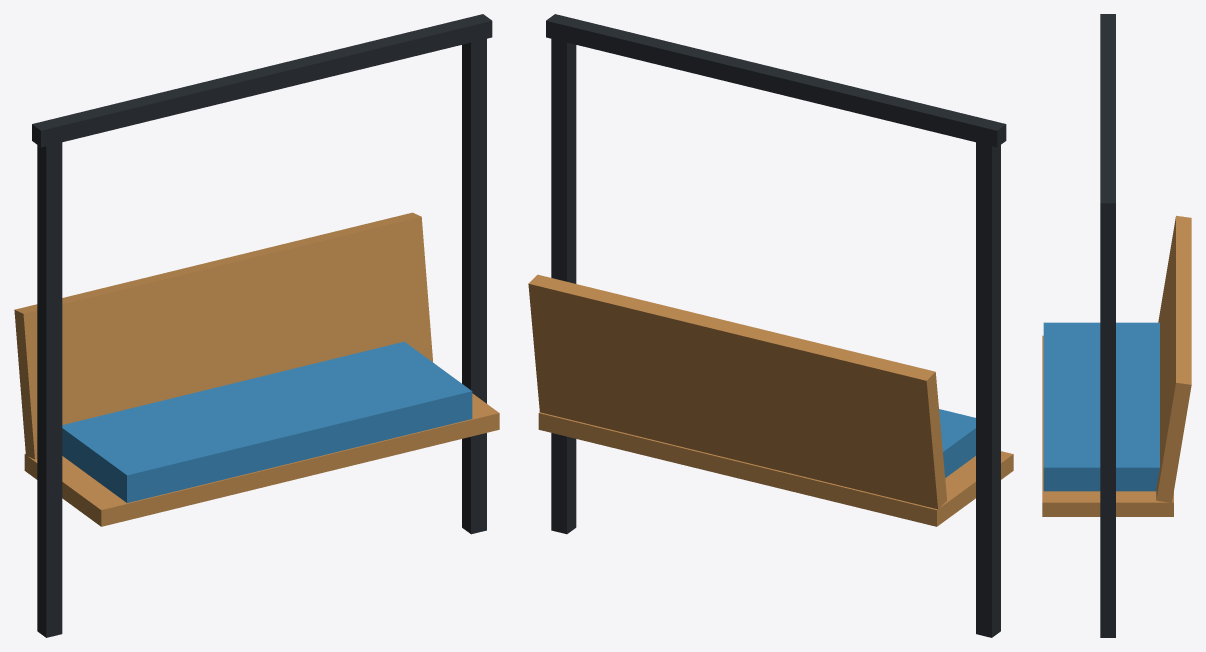
File: patio_porch_swing.glb
3 views of the same model, side by side, from view 1: azimuth 30°, elevation 25°; view 2: azimuth 150°, elevation 25°; view 3: azimuth 270°, elevation 25° (orthographic). The views are drawn at different scales.
Parts seen in each view (by area): view 1: porch_swing; view 2: porch_swing; view 3: porch_swing.
Boxes of the visible parts, x1=… form: porch_swing: x1=14, y1=14, x2=499, y2=637; porch_swing: x1=528, y1=14, x2=1013, y2=637; porch_swing: x1=1042, y1=14, x2=1191, y2=637.
Size of the model in its own units: 1.7 by 1.83 by 0.567.
